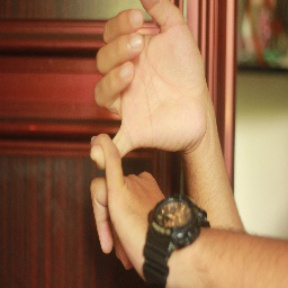S: (74, 1, 208, 272)
